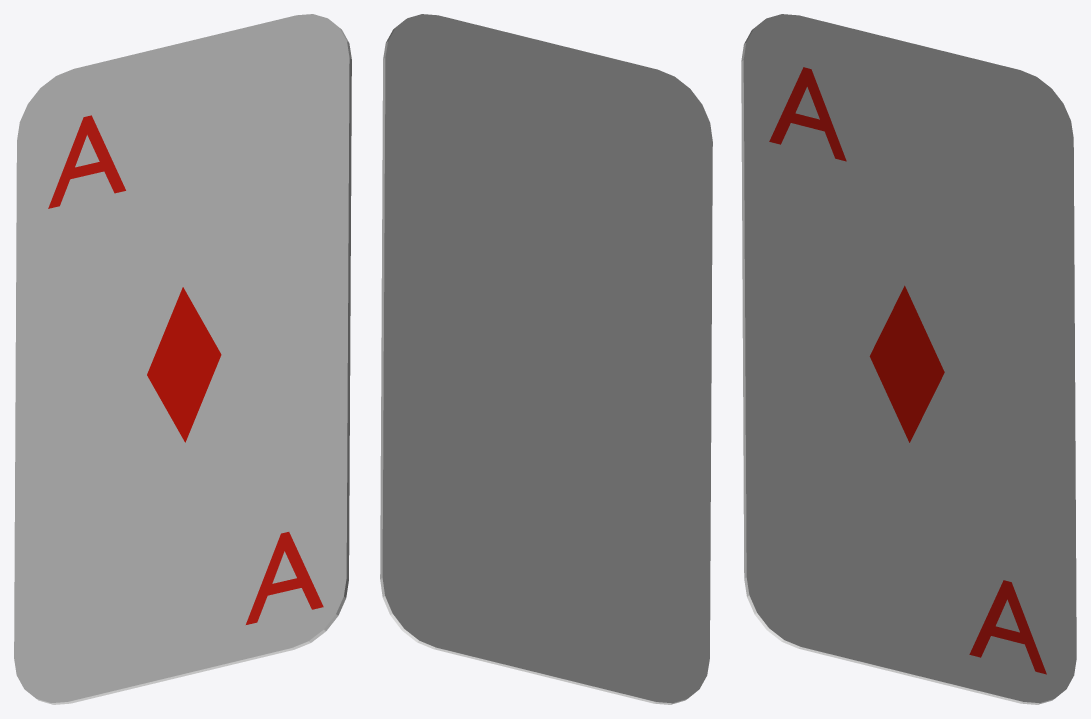
File: cards.glb
3 views of the same model, side by side, from view 1: azimuth 30°, elevation 25°; view 2: azimuth 150°, elevation 25°; view 3: azimuth 330°, elevation 25° (orthographic).
Parts seen in each view (by area): view 1: card_frame.003, Plane, ace_letter.left.003, ace_letter.right.003; view 2: card_frame.003; view 3: card_frame.003, Plane, ace_letter.left.003, ace_letter.right.003.
Boxes of the visible parts, bbox=[...] form: card_frame.003: bbox=[14, 14, 351, 704]; Plane: bbox=[147, 287, 221, 442]; ace_letter.left.003: bbox=[48, 115, 125, 208]; ace_letter.right.003: bbox=[246, 532, 323, 624]; card_frame.003: bbox=[380, 14, 712, 704]; card_frame.003: bbox=[741, 14, 1076, 704]; Plane: bbox=[869, 285, 944, 442]; ace_letter.left.003: bbox=[769, 67, 846, 161]; ace_letter.right.003: bbox=[969, 580, 1046, 674].
Bounding box in the file's own units: 1.09 × 2 × 0.0388.
